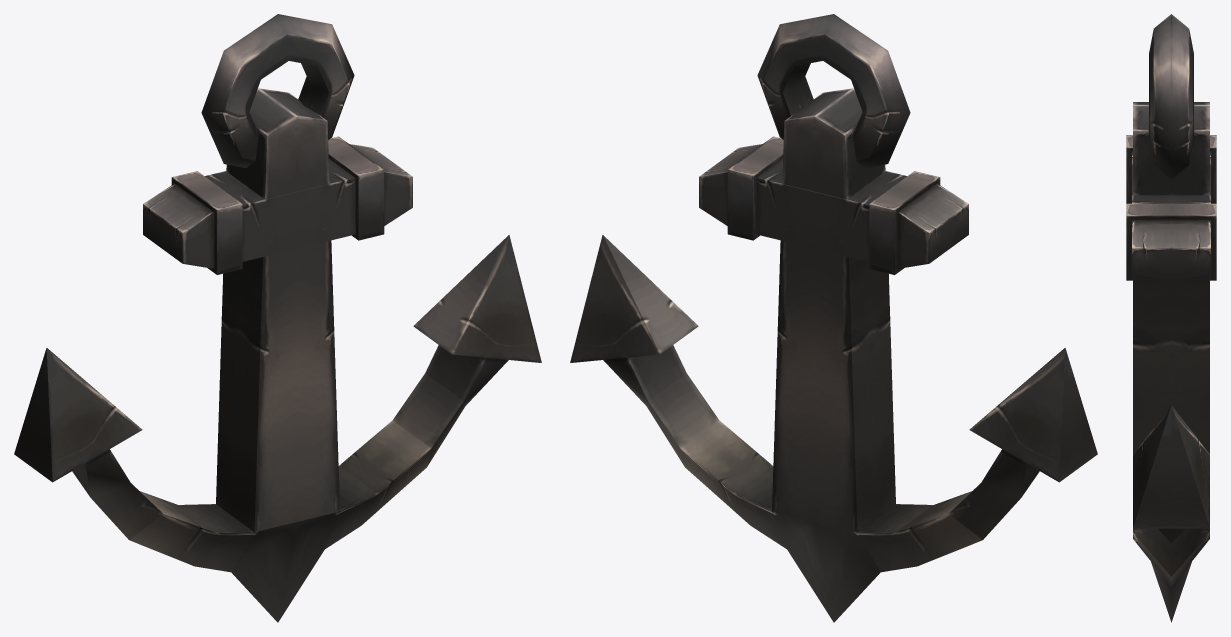
The model's file is 94_anchor.FBX.
The picture shows the model from 3 angles, left to right: view 1: azimuth 30°, elevation 25°; view 2: azimuth 150°, elevation 25°; view 3: azimuth 270°, elevation 25°; orthographic projection.
Visible parts, largest first — view 1: Box023; view 2: Box023; view 3: Box023.
Boxes of the visible parts, x1,y1,x2,y2 form: Box023: (14, 14, 541, 622); Box023: (570, 14, 1097, 622); Box023: (1126, 14, 1216, 622).
Size of the model in its own units: 47.09 by 56 by 7.57.
